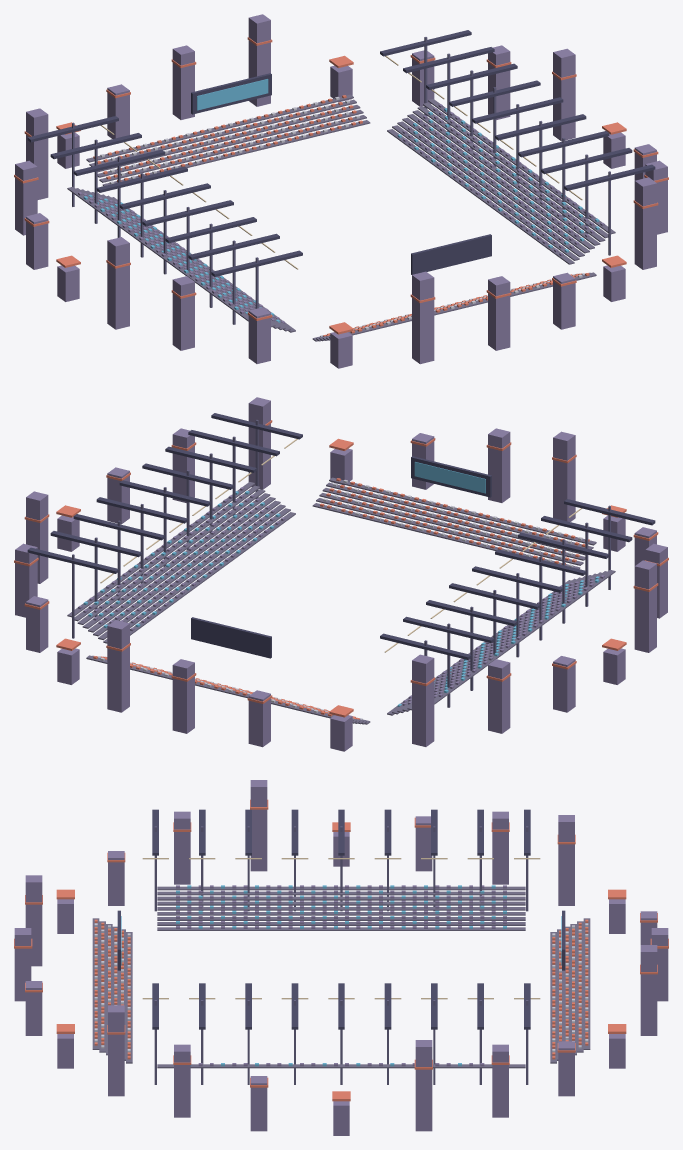
Rendered from velocity.glb.
3 views of the same model, one above another, from view 1: azimuth 30°, elevation 25°; view 2: azimuth 150°, elevation 25°; view 3: azimuth 270°, elevation 25° (orthographic).
Parts seen in each view (by area): view 1: velocity_original_2, velocity_original_6, velocity_original_0, velocity_original_3, velocity_original_1, velocity_original_4, velocity_original_5, velocity_original_7; view 2: velocity_original_2, velocity_original_6, velocity_original_0, velocity_original_3, velocity_original_1, velocity_original_4, velocity_original_5, velocity_original_7; view 3: velocity_original_2, velocity_original_6, velocity_original_0, velocity_original_3, velocity_original_1, velocity_original_5, velocity_original_4, velocity_original_7.
Part boxes in pixels (x1,y1,x2,y2): velocity_original_2: [15, 14, 667, 368]; velocity_original_6: [67, 94, 615, 341]; velocity_original_0: [27, 30, 655, 276]; velocity_original_3: [14, 37, 668, 336]; velocity_original_1: [72, 37, 610, 324]; velocity_original_4: [83, 79, 599, 322]; velocity_original_5: [100, 97, 584, 336]; velocity_original_7: [100, 56, 582, 269]; velocity_original_2: [15, 397, 667, 751]; velocity_original_6: [67, 477, 615, 724]; velocity_original_0: [27, 413, 655, 659]; velocity_original_3: [14, 420, 668, 719]; velocity_original_1: [72, 420, 610, 707]; velocity_original_4: [83, 462, 599, 706]; velocity_original_5: [98, 480, 582, 719]; velocity_original_7: [100, 439, 582, 652]; velocity_original_2: [14, 780, 668, 1135]; velocity_original_6: [92, 886, 590, 1068]; velocity_original_0: [117, 809, 565, 1029]; velocity_original_3: [14, 799, 668, 1101]; velocity_original_1: [154, 826, 528, 1084]; velocity_original_5: [94, 923, 588, 1052]; velocity_original_4: [121, 885, 561, 1066]; velocity_original_7: [142, 858, 540, 999].
Size of the model in its own units: 198 by 28.2 by 198.
